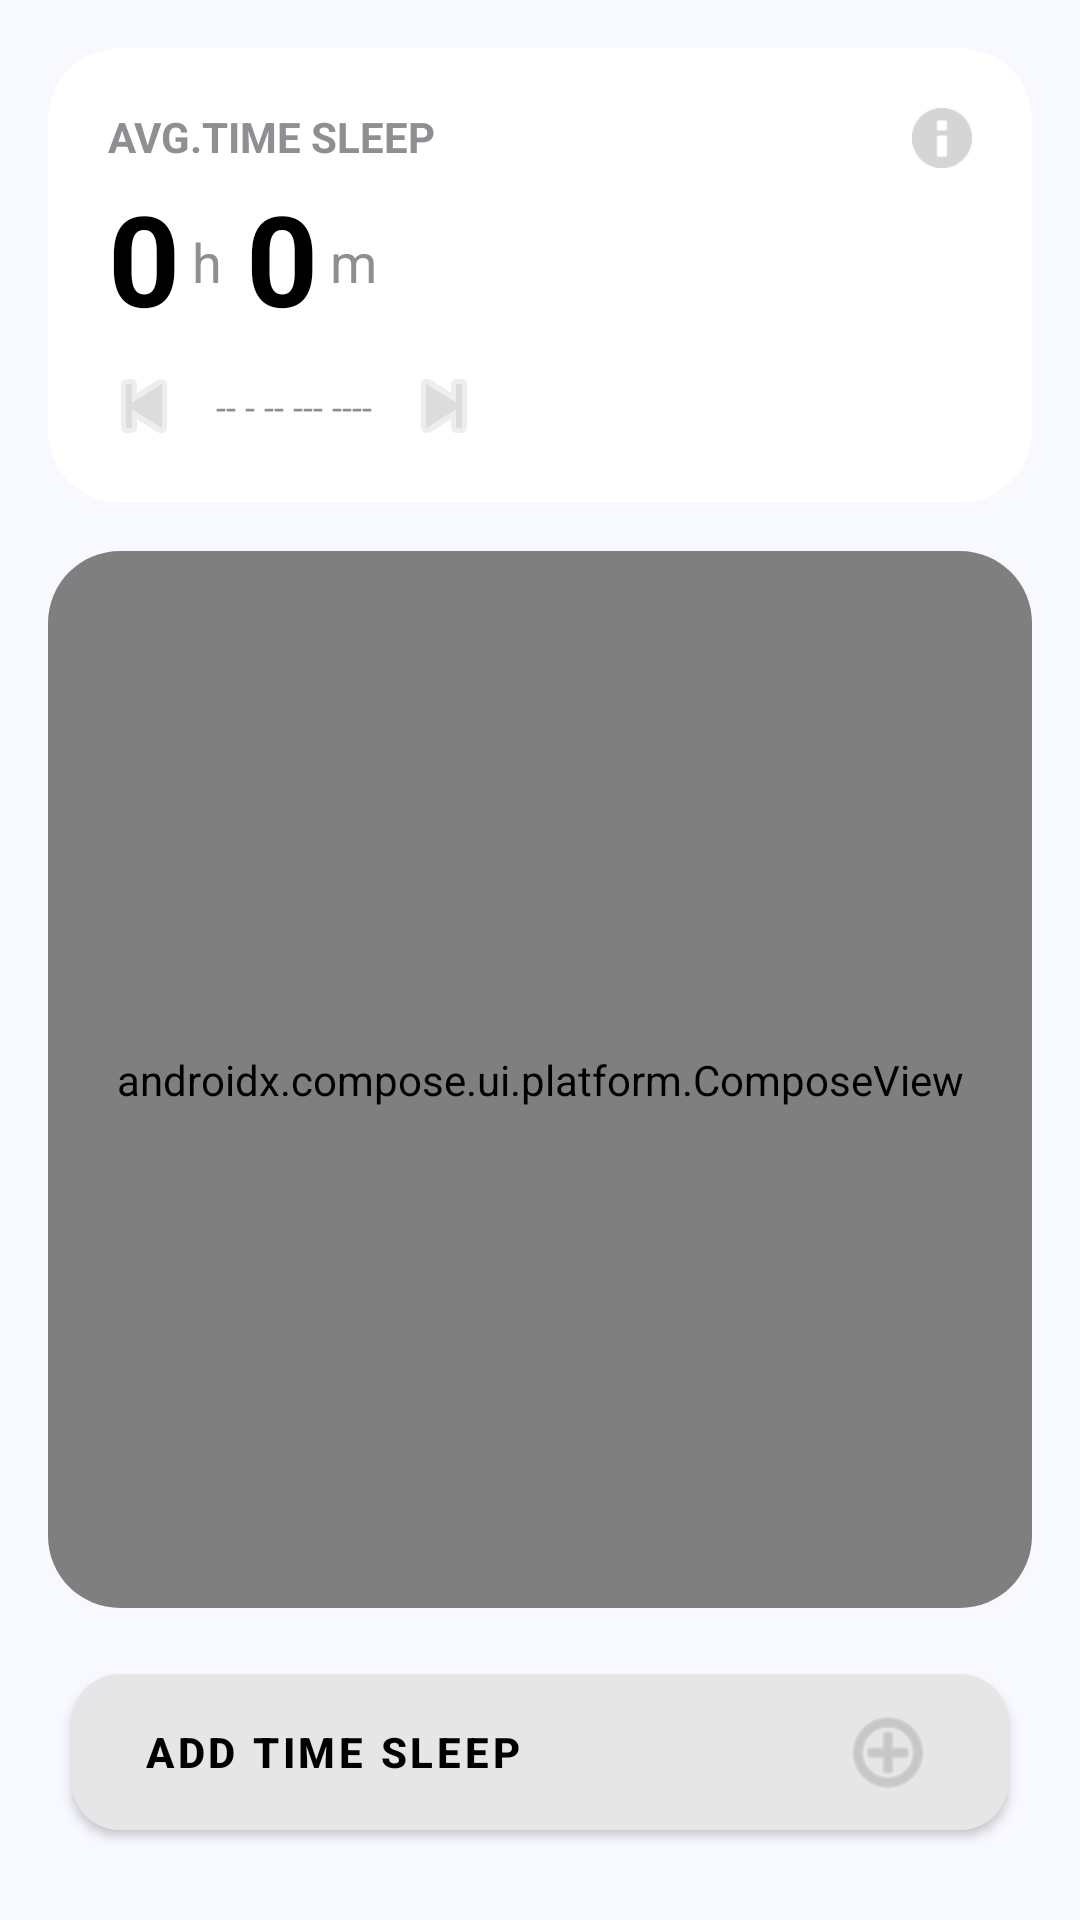

Named icons in this screenshot (1080px×1920px) and their centers, (x=x, y=y):
Info: (x=942, y=138)
Next Week: (x=444, y=406)
Previous Week: (x=144, y=406)
